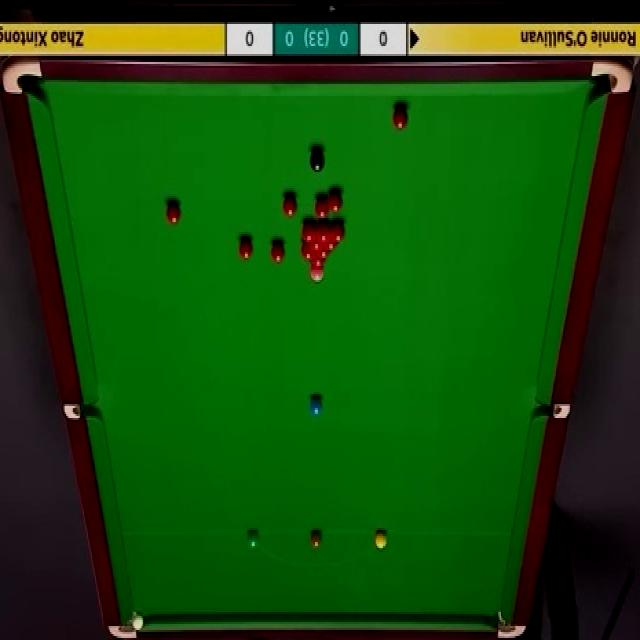black-ball: (310, 151, 326, 173)
blue-ball: (310, 394, 324, 416)
brown-ball: (310, 531, 323, 550)
green-ball: (246, 531, 259, 550)
pink-ball: (311, 266, 325, 280)
red-ball: (393, 106, 409, 131), (301, 219, 316, 245), (238, 238, 254, 260), (283, 197, 299, 218), (328, 188, 342, 212), (330, 223, 346, 244), (317, 221, 331, 244), (271, 242, 285, 264), (316, 194, 328, 219), (167, 204, 180, 226), (301, 241, 315, 260), (315, 245, 331, 260), (310, 254, 326, 269), (307, 236, 324, 250), (324, 238, 338, 251)
yellow-ball: (375, 531, 388, 550)
